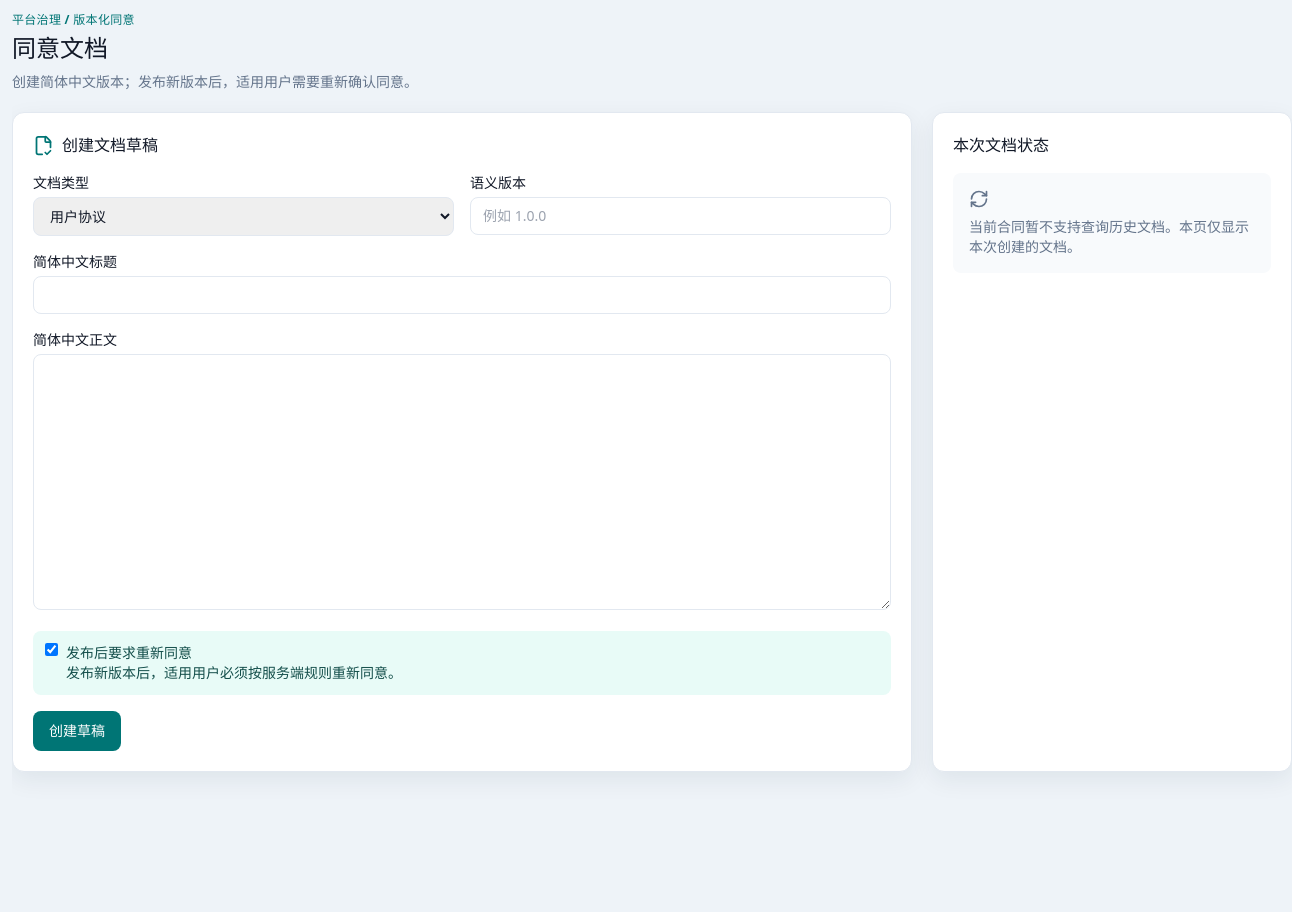
Test: 平台用户实名与同意文档 › 发布发生 409 时清除陈旧副本且不自动重放
In the field labelled "语义版本": (680,216) [470,197,891,235], type "1.0.0"
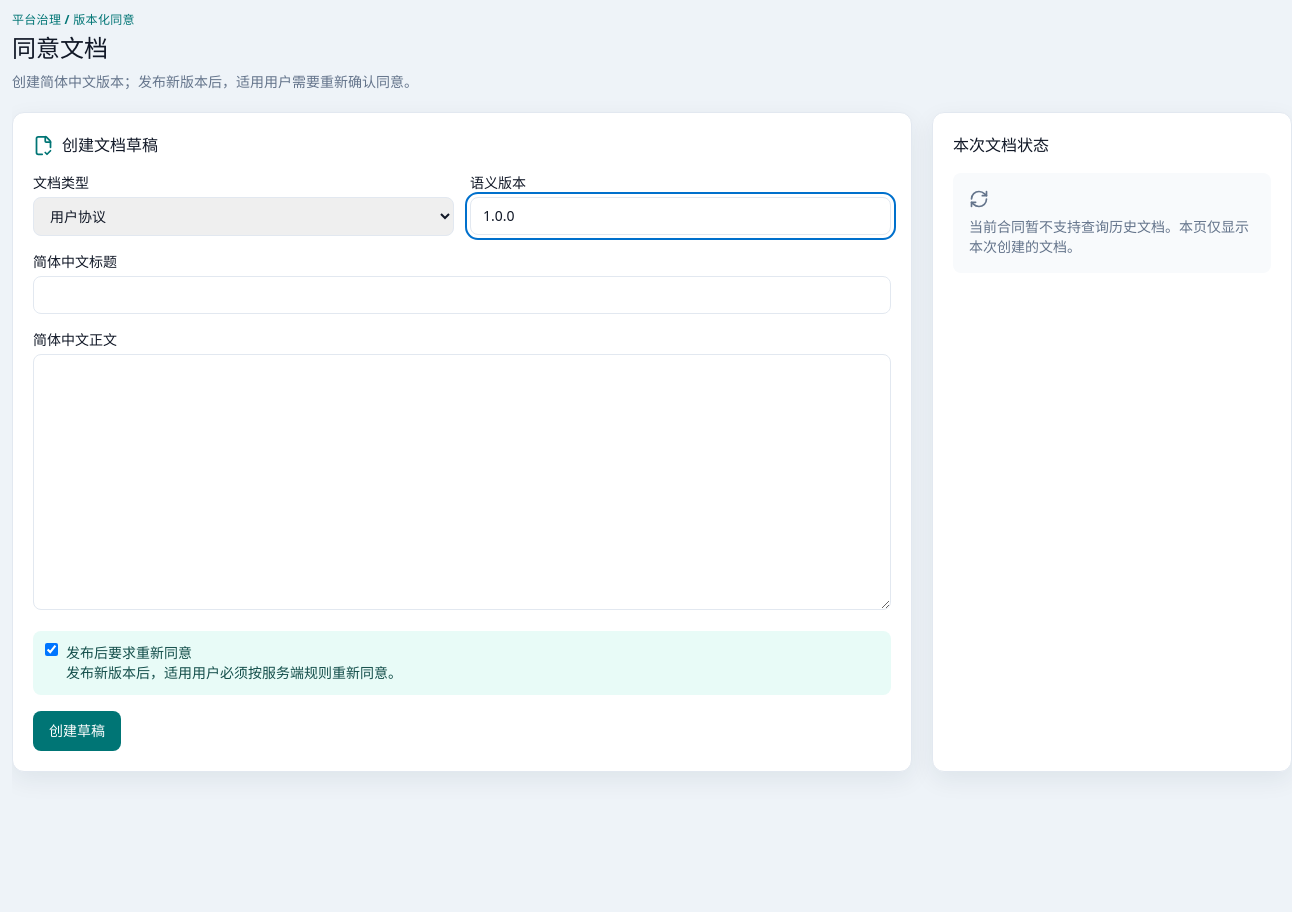
In the field labelled "简体中文标题": (462,295) [33,276,891,314], type "合成协议"
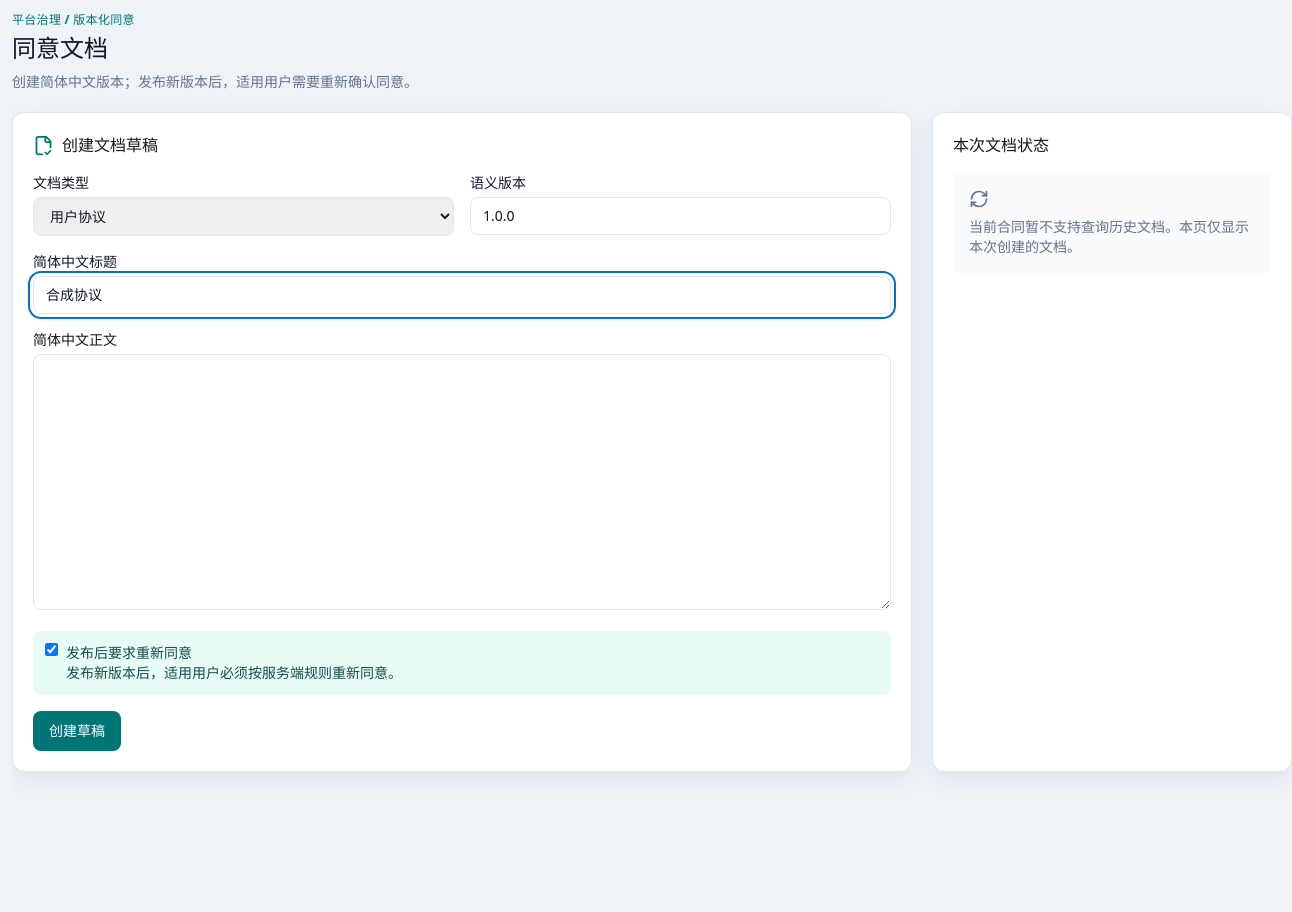
In the text box labelled "简体中文正文": (462,482) [33,354,891,610], type "仅用于前端合同验证。"
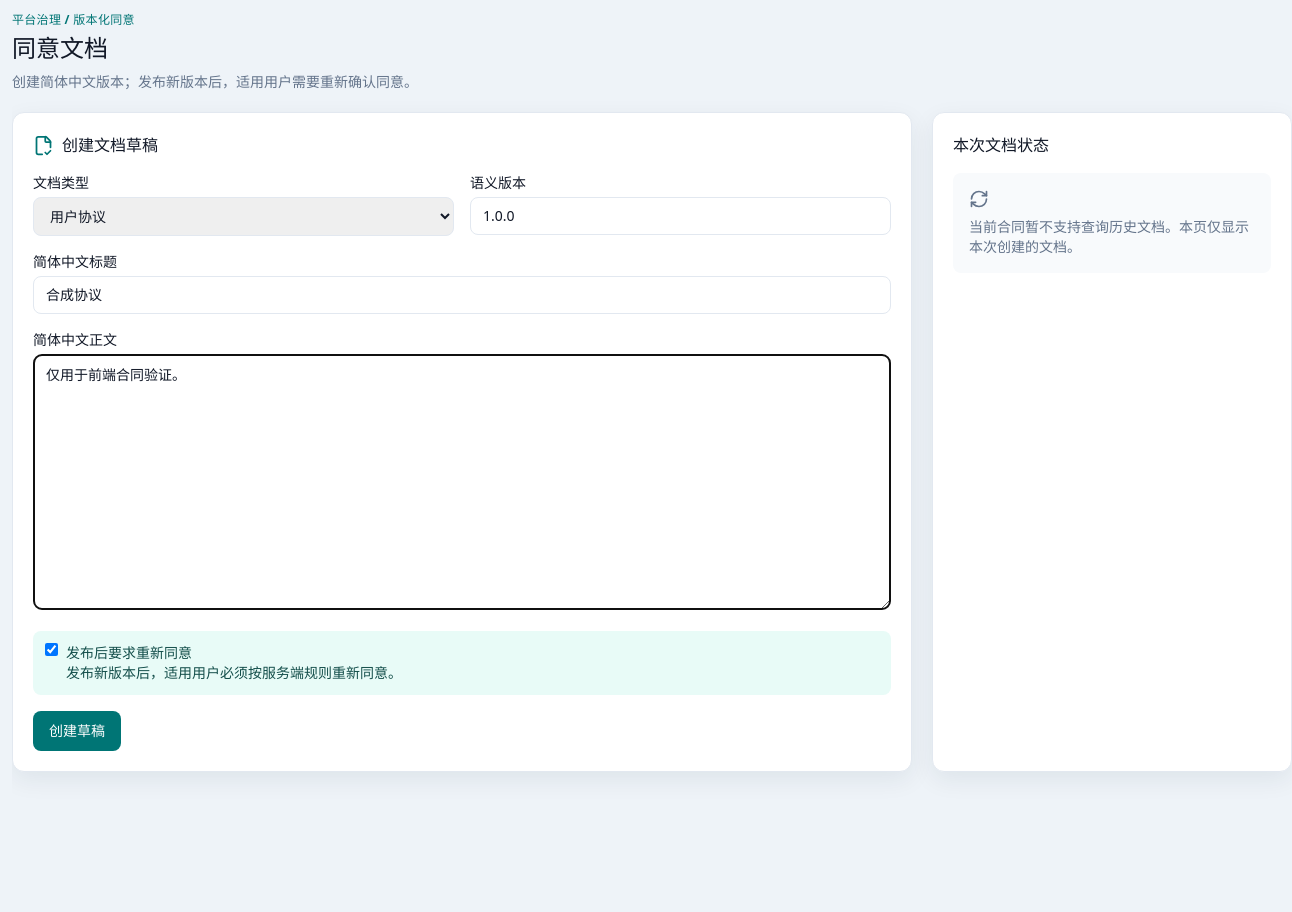
Click the button "创建草稿": (77,731) [33,711,121,751]
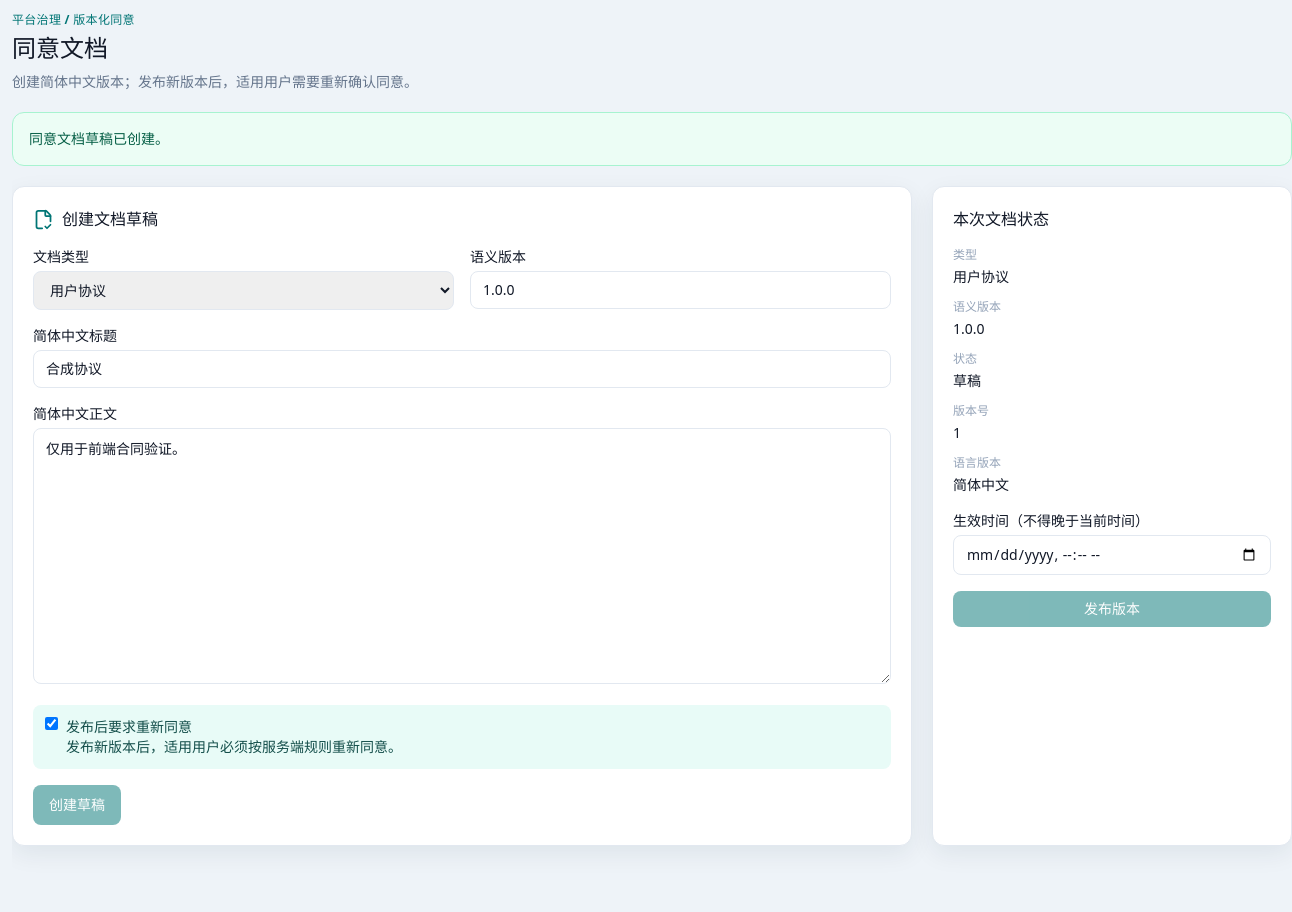
Expected: the text "同意文档草稿已创建。" is shown, [12,112,1291,166]
In the field labelled "生效时间（不得晚于当前时间）": (1112,555) [953,535,1271,575], type "2026-08-21T00:00"
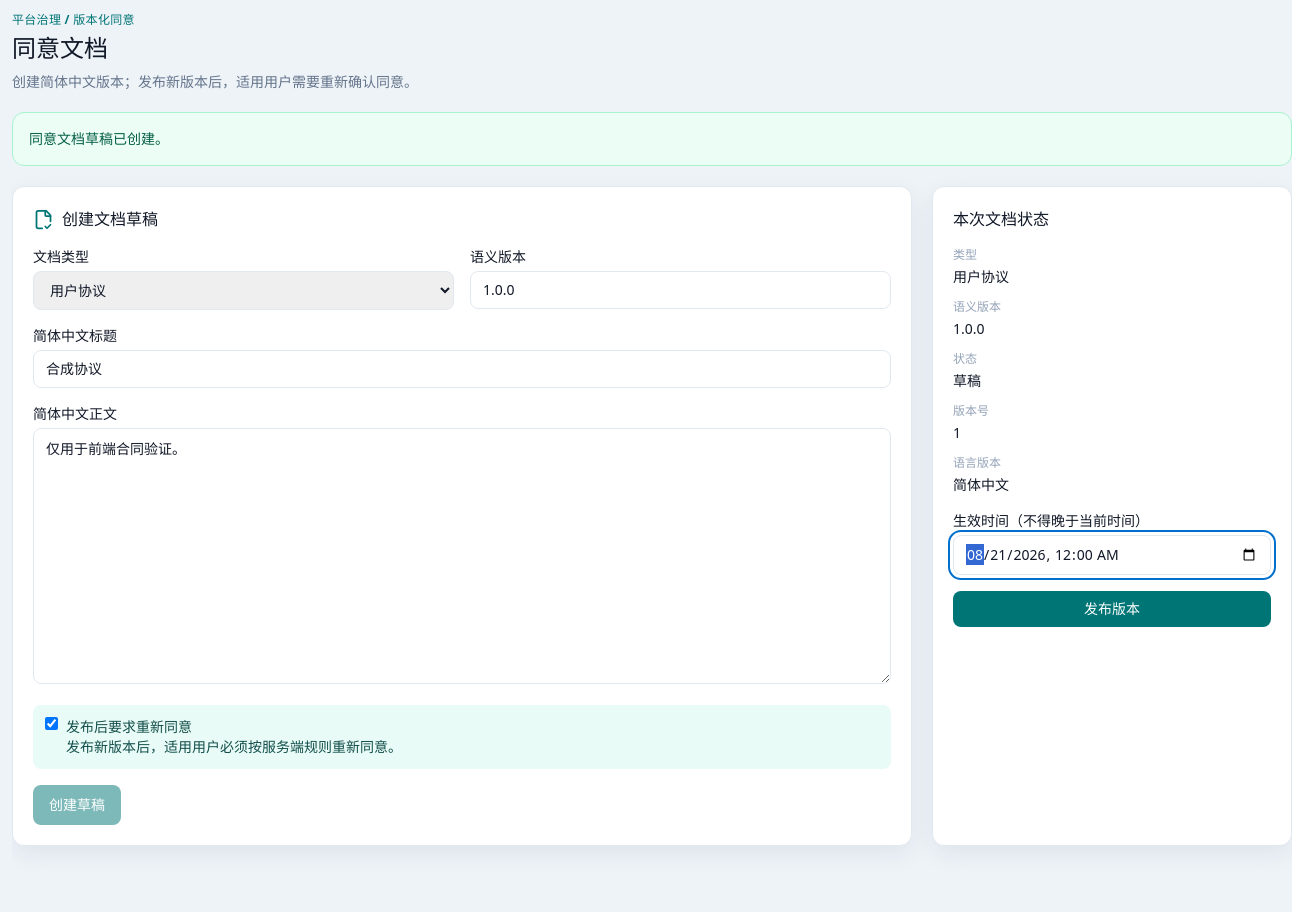
Click the button "发布版本": (1112,609) [953,591,1271,627]
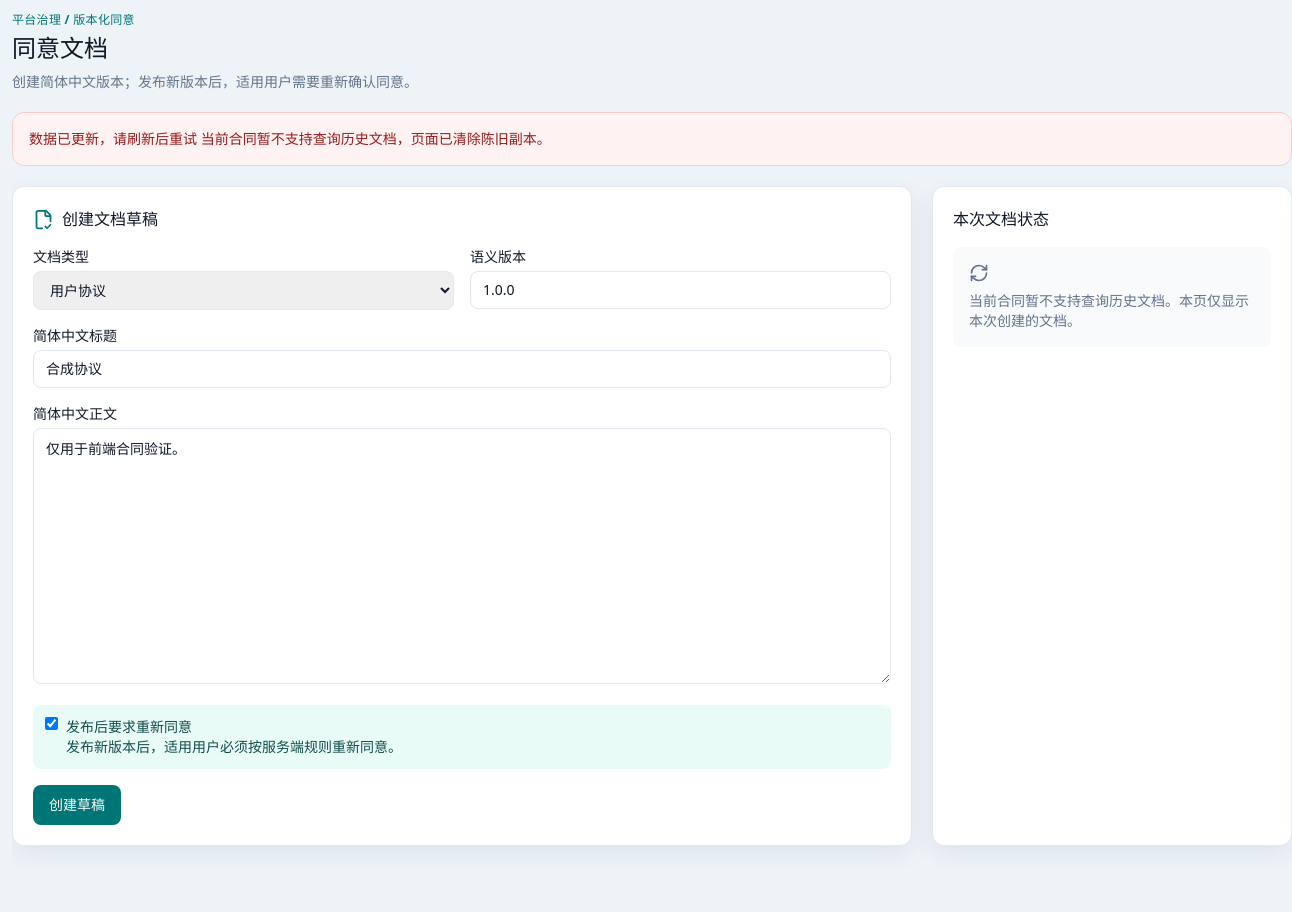
Expected: the text "数据已更新，请刷新后重试 当前合同暂不支持查询历史文档，页面已清除陈旧副本。" is shown, [12,112,1291,166]
